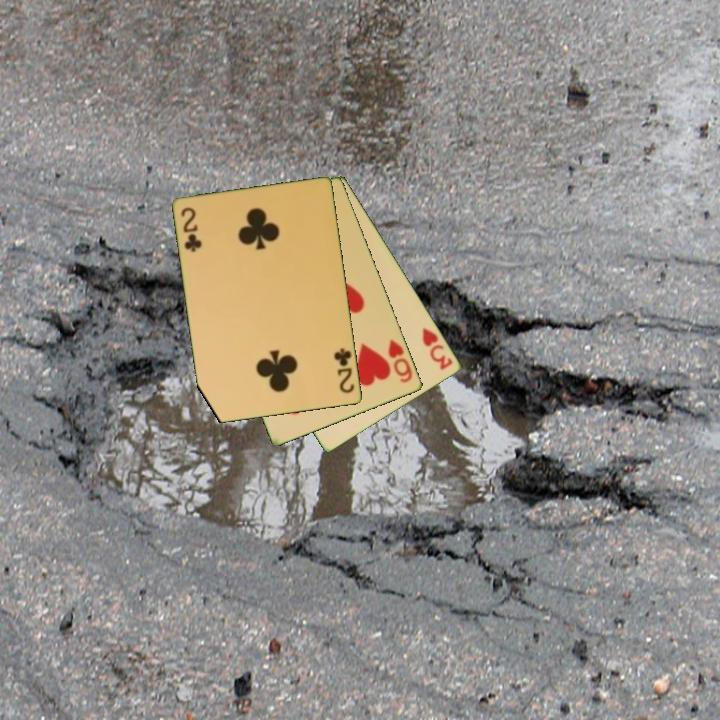2c: (330, 345, 357, 396), (178, 204, 204, 255)
3h: (419, 324, 456, 373)
6h: (385, 336, 416, 386)
